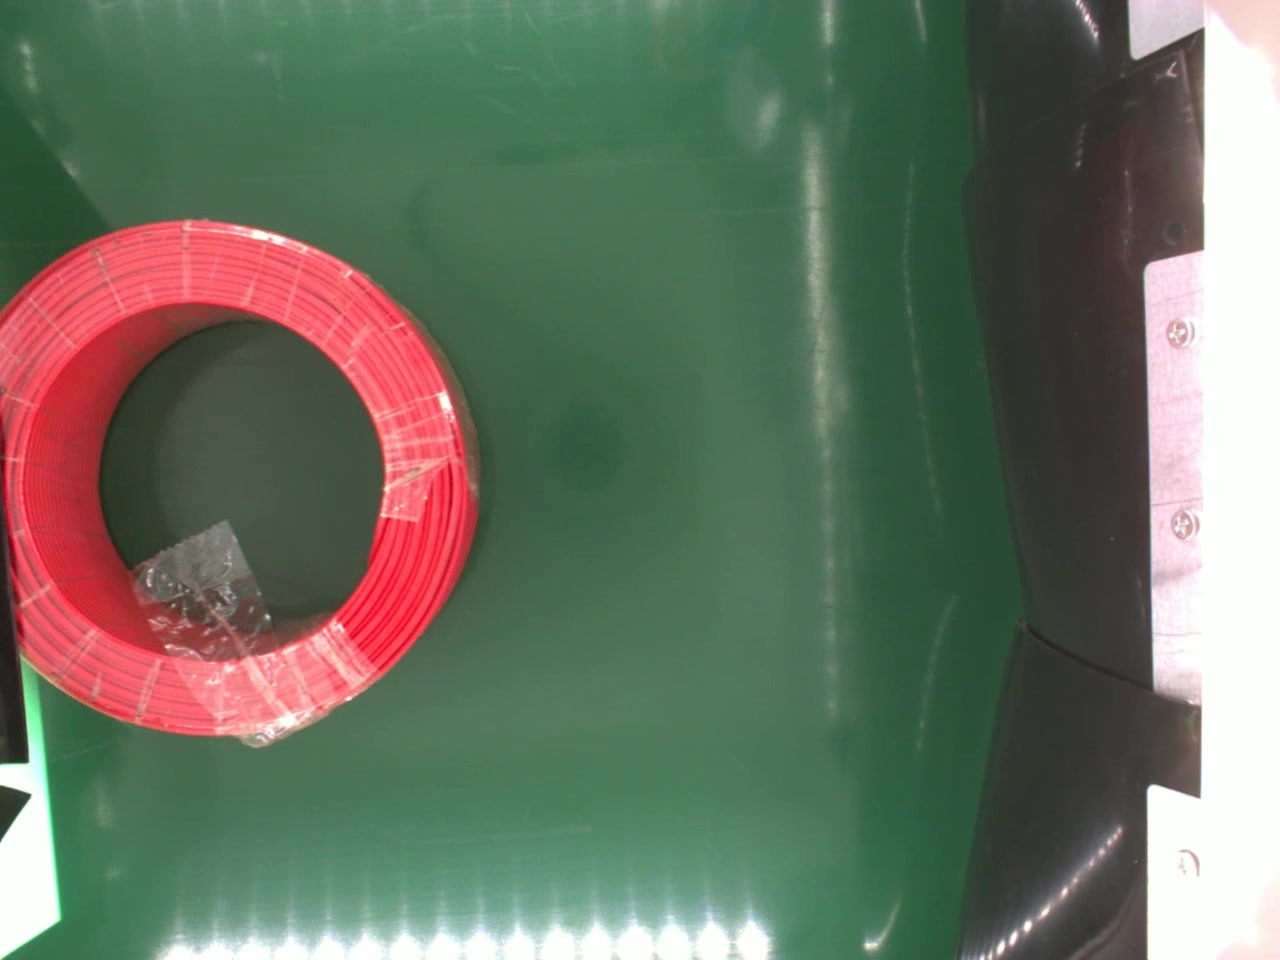red: (0, 213, 482, 744)
